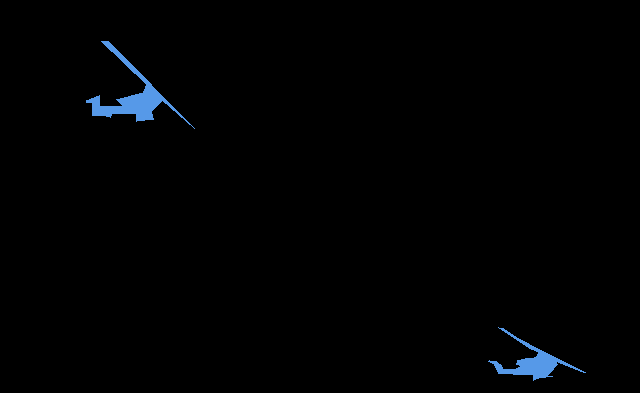Airplane: (86, 41, 194, 129), (488, 327, 586, 380)
